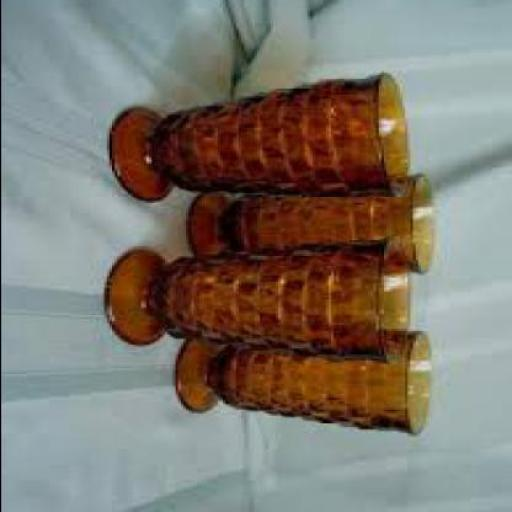glass: (110, 77, 408, 202), (106, 248, 411, 366), (176, 335, 432, 437), (187, 176, 436, 278)
